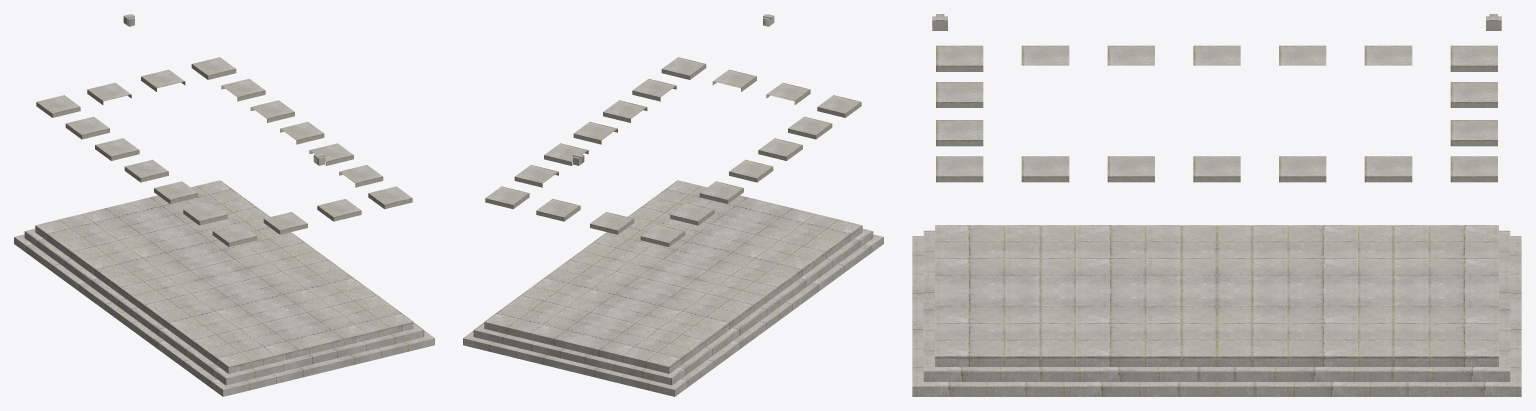
File: hele_temple_a_base.dae
3 renders of one model, left to right at view 1: azimuth 30°, elevation 25°; view 2: azimuth 150°, elevation 25°; view 3: azimuth 270°, elevation 25°, orthographic. The views are drawn at different scales.
Parts seen in each view (by area): view 1: Tiles; view 2: Tiles; view 3: Tiles.
Boxes of the visible parts, x1,y1,x2,y2 form: Tiles: (14, 14, 434, 396); Tiles: (463, 14, 883, 396); Tiles: (912, 14, 1521, 396).
Bounding box in the file's own units: 16.93 × 15.95 × 28.92.
